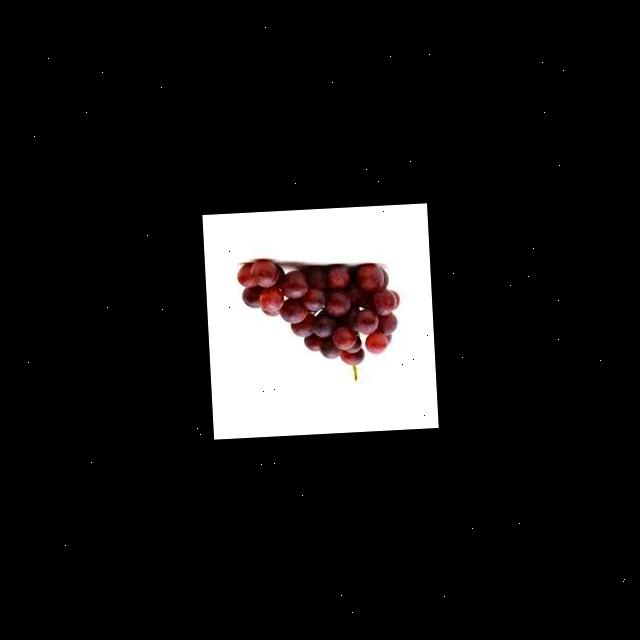grape: (235, 252, 404, 384)
